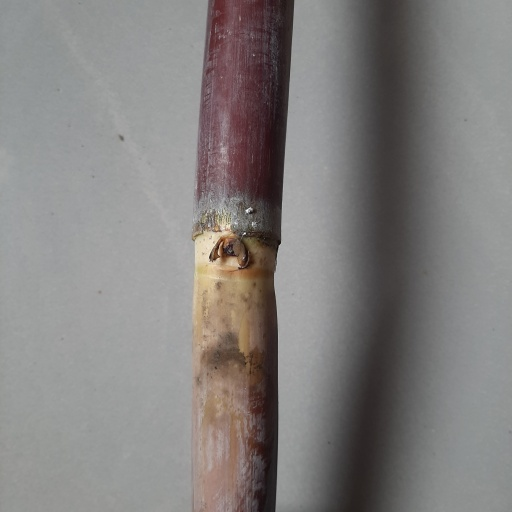Damage_Bud: (209, 238, 248, 269)
